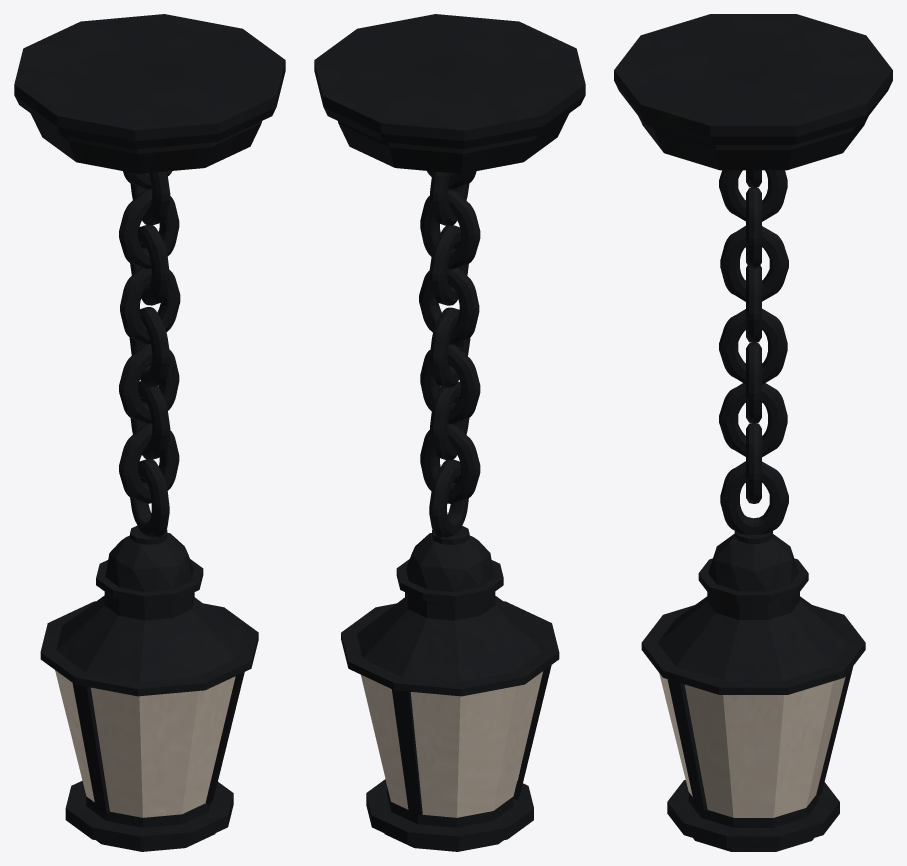
File: zincirli lamba.fbx
3 renders of one model, left to right at view 1: azimuth 30°, elevation 25°; view 2: azimuth 150°, elevation 25°; view 3: azimuth 270°, elevation 25°, orthographic.
Visible parts, largest first — view 1: Icosphere; view 2: Icosphere; view 3: Icosphere.
Part boxes in pixels (left/top/right/bottom): Icosphere: left=14, top=14, right=285, bottom=851; Icosphere: left=314, top=14, right=585, bottom=851; Icosphere: left=614, top=14, right=892, bottom=851.
Size of the model in its own units: 59.63 by 189 by 62.7.
1 material, 1 textured.
